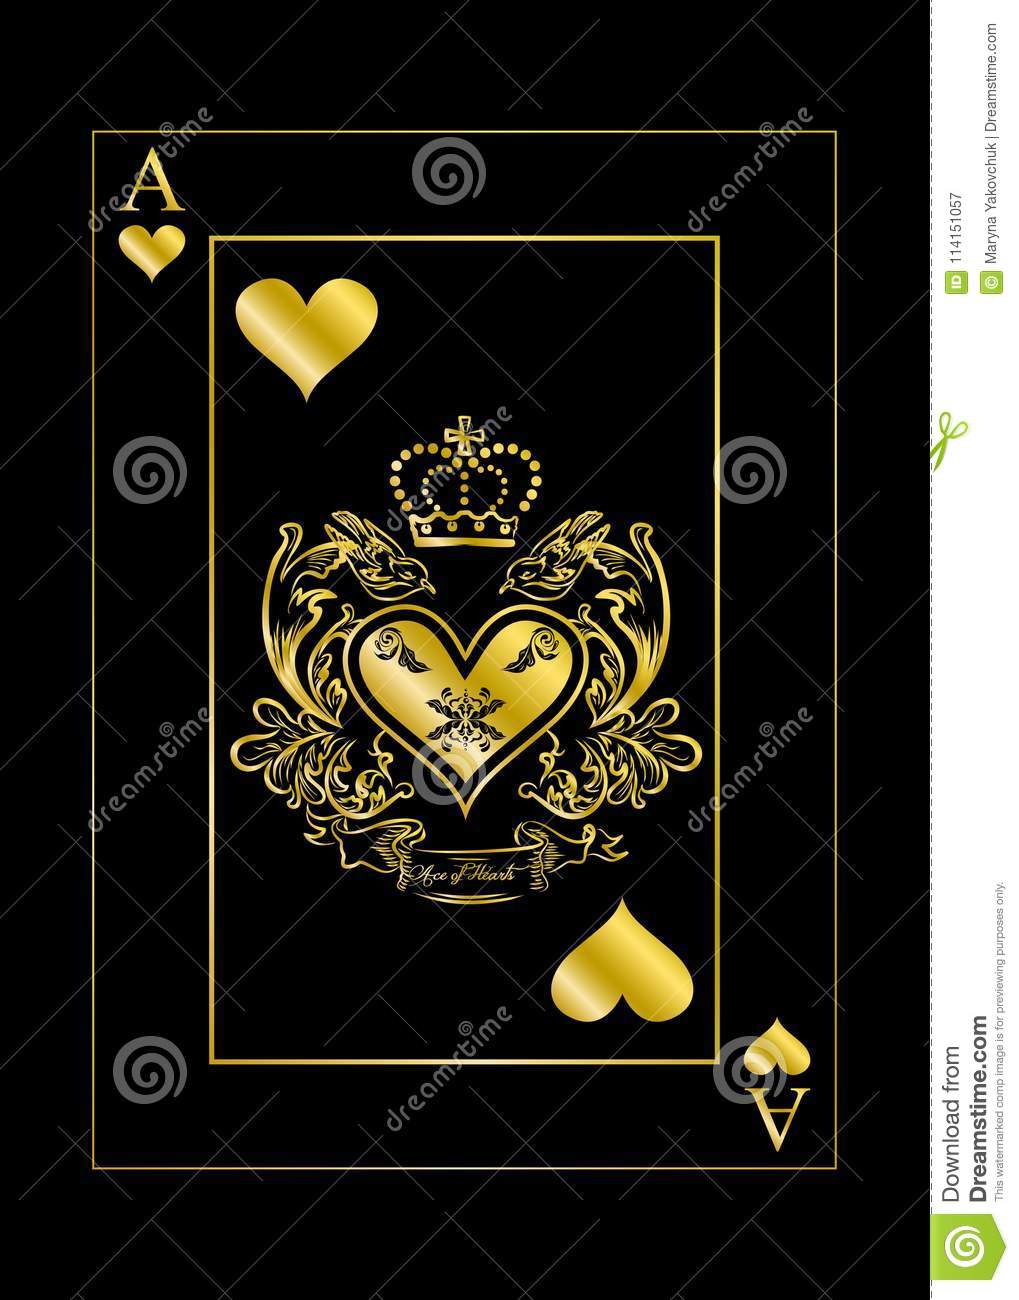ace of hearts: (87, 131, 830, 1172)
